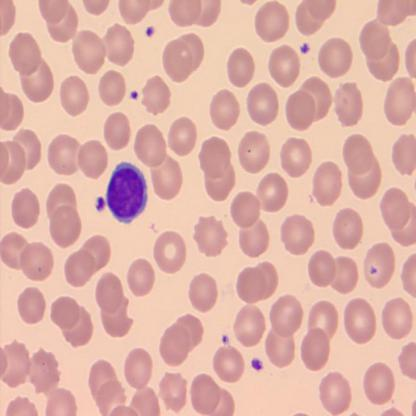Lymphocyte: (106, 160, 146, 224)
